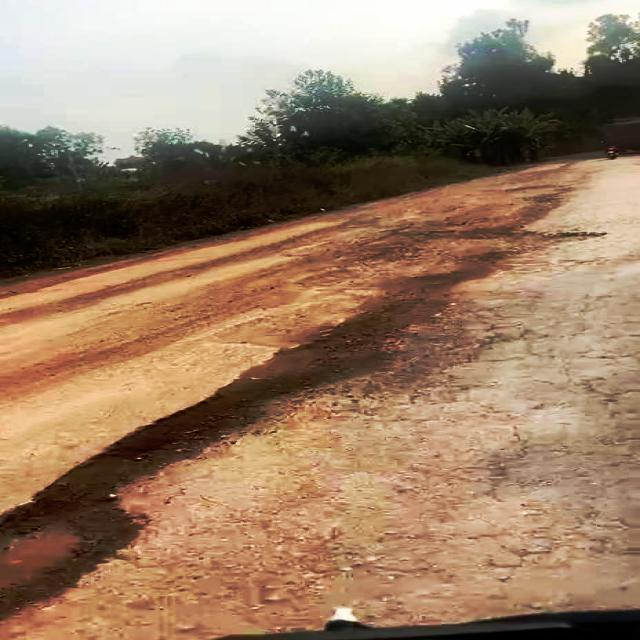pothole: (77, 358, 349, 490), (287, 270, 495, 371), (0, 487, 167, 611)
